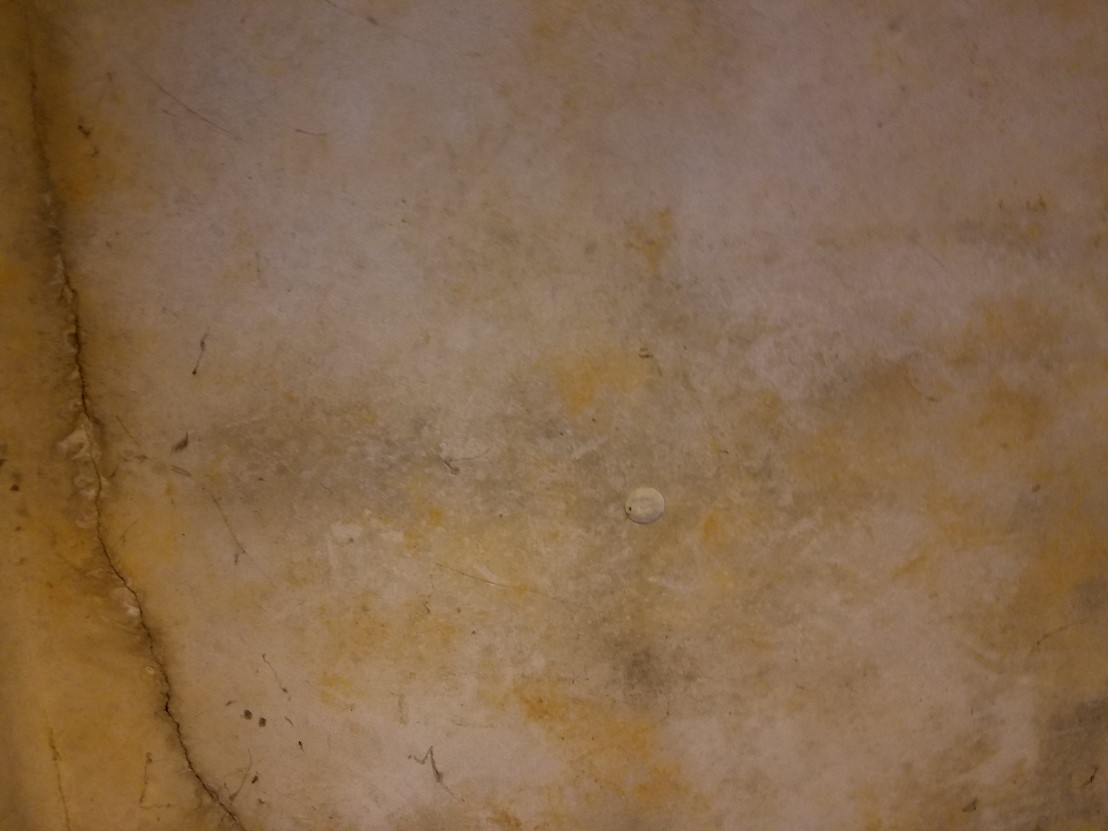Crack: (0, 0, 267, 831), (343, 519, 670, 644)
